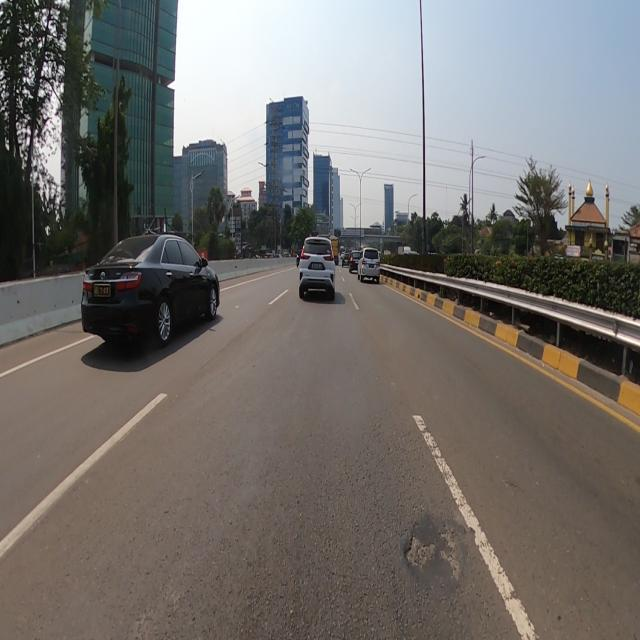Buraco: (400, 533, 440, 575)
